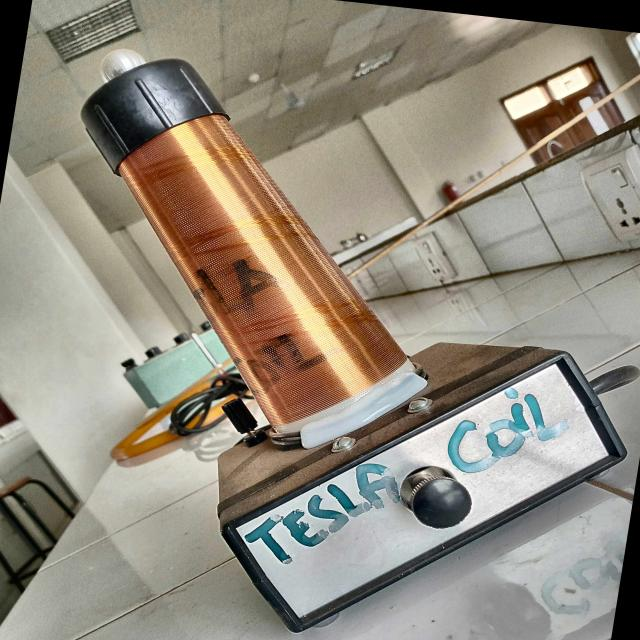Tesla Coil: (0, 22, 640, 640)
